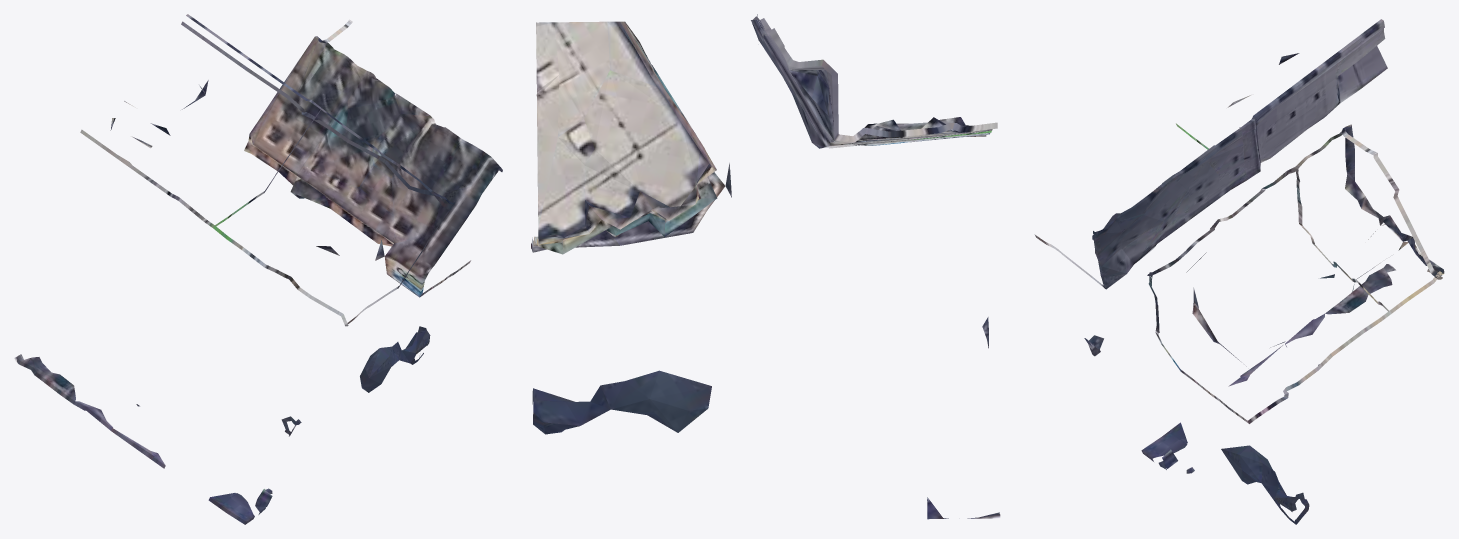
The picture shows the model from 3 angles, left to right: view 1: azimuth 30°, elevation 25°; view 2: azimuth 150°, elevation 25°; view 3: azimuth 270°, elevation 25°; orthographic projection. The views are drawn at different scales.
Bounding box in the file's own units: 49.27 × 50.45 × 40.64.
2 materials, 2 textured.
